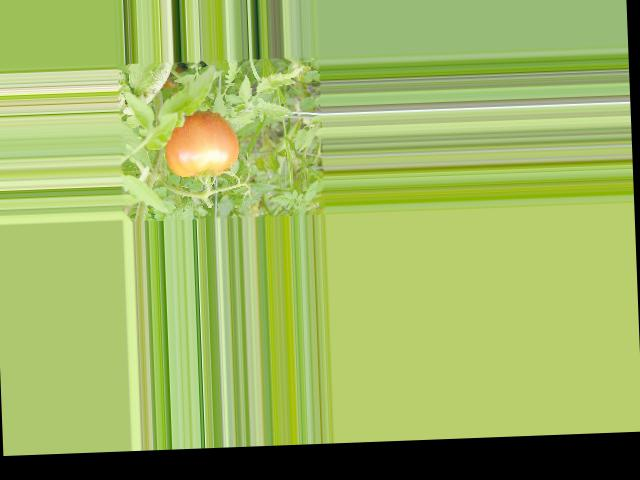tomato: (164, 111, 239, 178)
